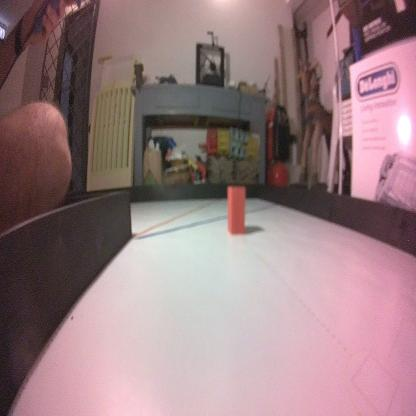red: (226, 185, 247, 235)
